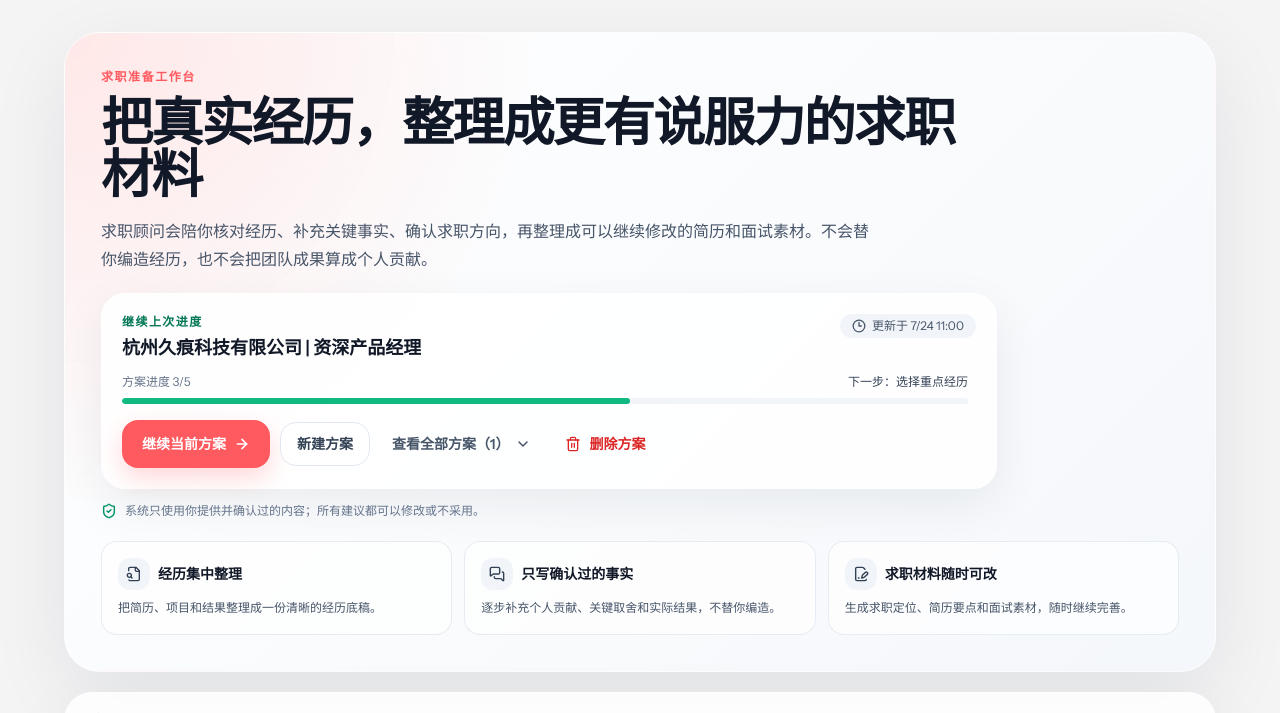
Test case: App › continues an existing draft from the cover screen
Check: the heading "杭州久痕科技有限公司 | 资深产品经理" is shown, box [122,334,421,362]
Check: the text "下一步：选择重点经历" is shown, box [848,374,968,390]
Click the button "继续当前方案".
click(196, 444)  # box [122,420,270,468]
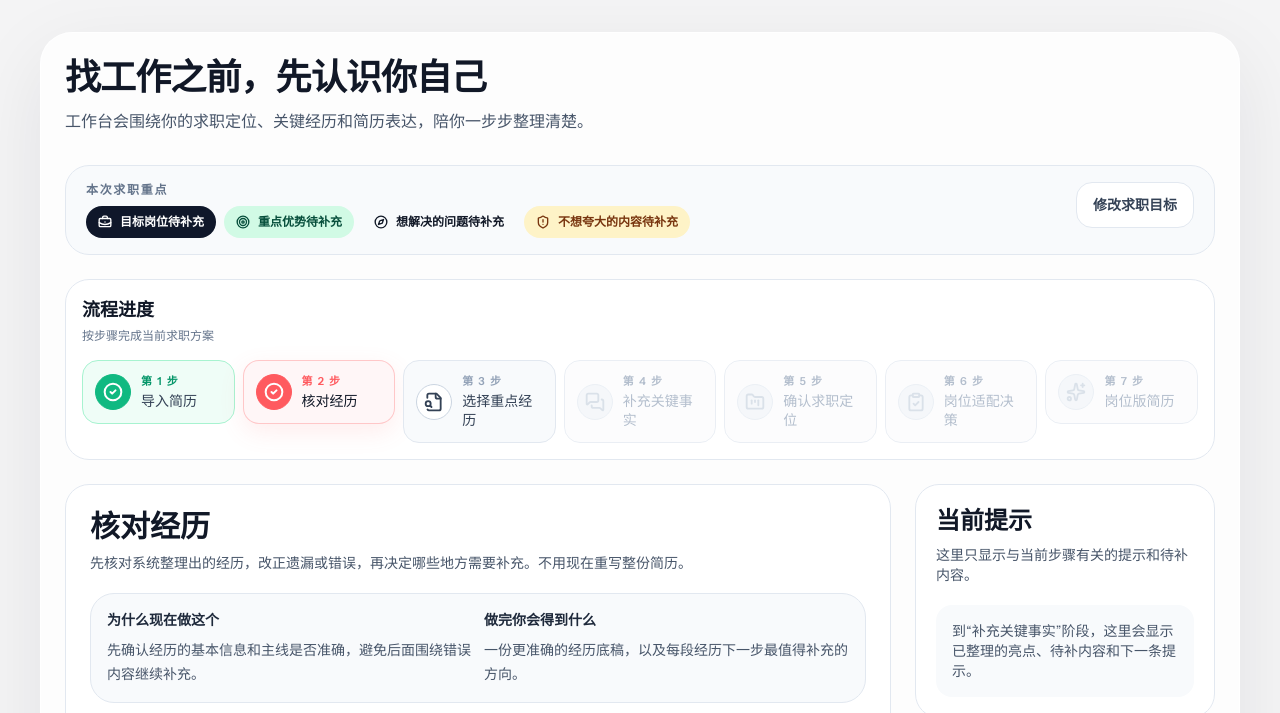
Check: the heading "核对经历" is shown, box [90,508,210,545]
